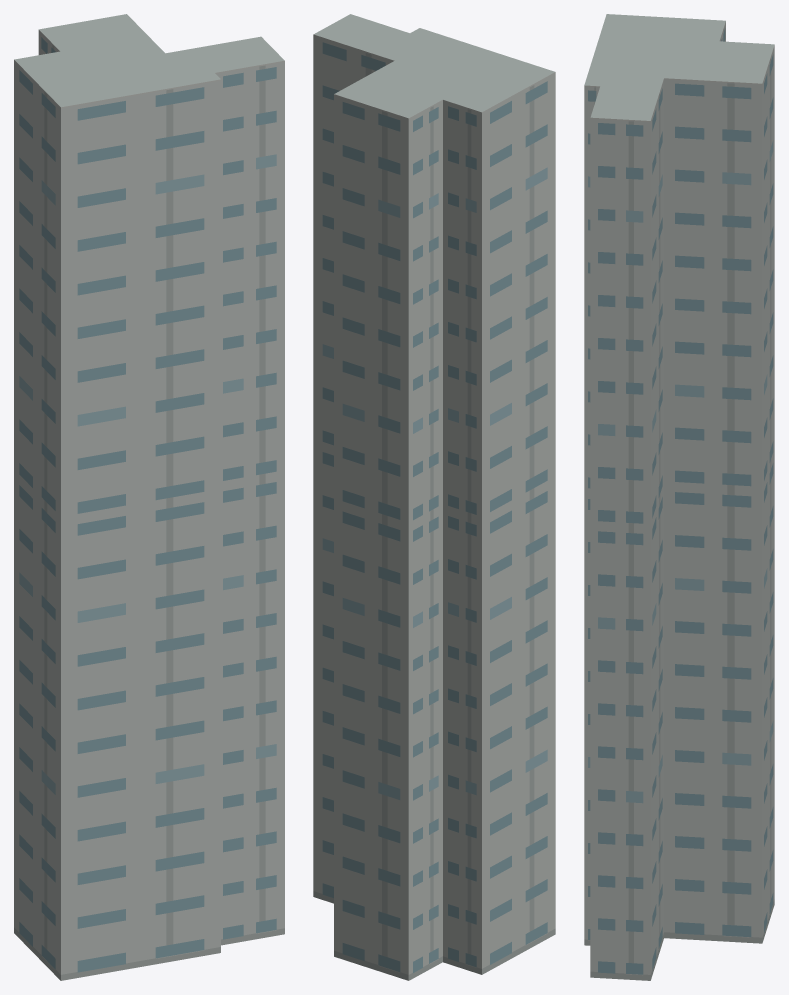
The model's file is residential-d5e72edd-6a98-4bd0-a842-c3a7be04f035.glb.
The picture shows the model from 3 angles, left to right: view 1: azimuth 30°, elevation 25°; view 2: azimuth 150°, elevation 25°; view 3: azimuth 270°, elevation 25°; orthographic projection.
Visible parts, largest first — view 1: residential-d5e72edd-6a98-4bd0-a842-c3a7be04f035.tmp; view 2: residential-d5e72edd-6a98-4bd0-a842-c3a7be04f035.tmp; view 3: residential-d5e72edd-6a98-4bd0-a842-c3a7be04f035.tmp.
Boxes of the visible parts, left/top/right/bottom form: residential-d5e72edd-6a98-4bd0-a842-c3a7be04f035.tmp: left=14, top=14, right=284, bottom=980; residential-d5e72edd-6a98-4bd0-a842-c3a7be04f035.tmp: left=313, top=14, right=555, bottom=980; residential-d5e72edd-6a98-4bd0-a842-c3a7be04f035.tmp: left=584, top=14, right=774, bottom=980.
Size of the model in its own units: 41.65 by 156 by 31.33.
